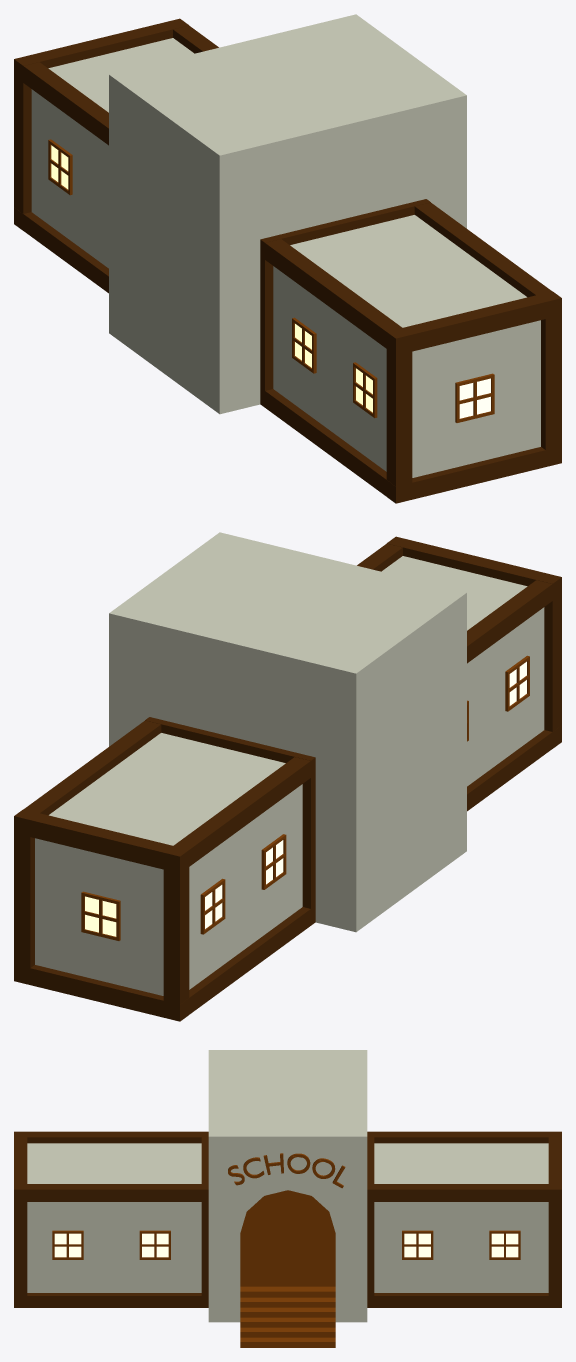
File: School.fbx
The picture shows the model from 3 angles, top to bottom: view 1: azimuth 30°, elevation 25°; view 2: azimuth 150°, elevation 25°; view 3: azimuth 270°, elevation 25°; orthographic projection. The views are drawn at different scales.
Parts seen in each view (by area): view 1: School; view 2: School; view 3: School.
Boxes of the visible parts, x1=… form: School: x1=14, y1=14, x2=561, y2=503; School: x1=14, y1=532, x2=561, y2=1021; School: x1=14, y1=1050, x2=561, y2=1347.
Size of the model in its own units: 647 by 500 by 1338.
